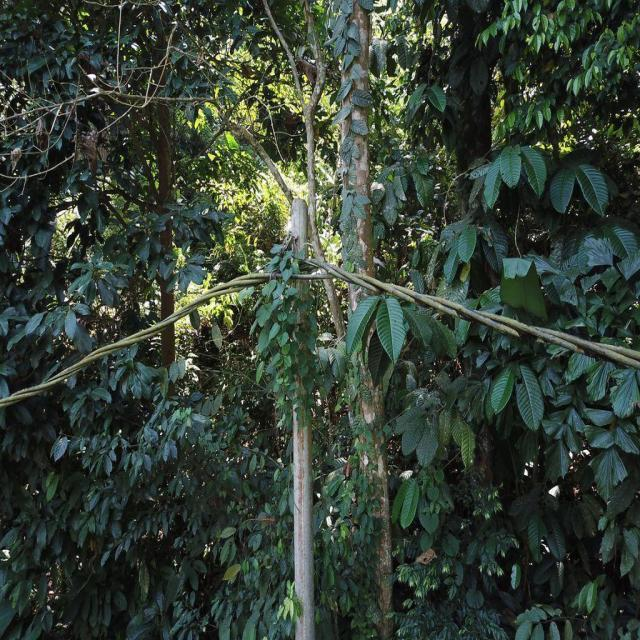critical vegetation: (244, 225, 334, 438)
